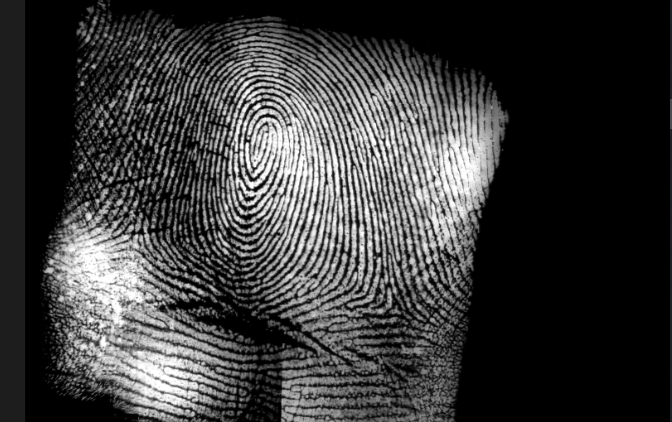deltas: (354, 265, 420, 331), (102, 203, 163, 269)
nucleo: (231, 107, 285, 183)
